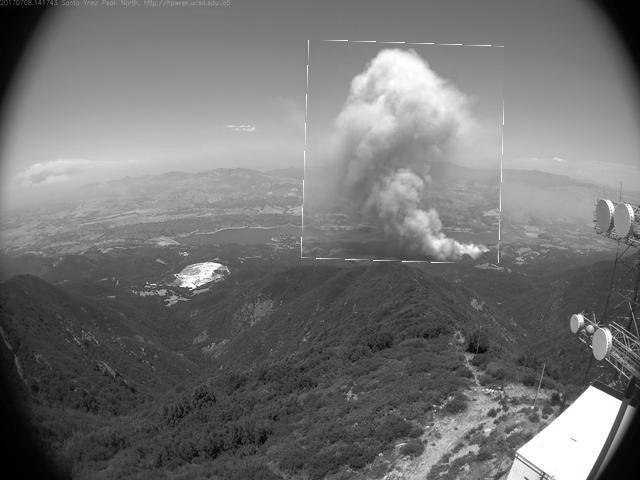smoke: (304, 43, 505, 264)
